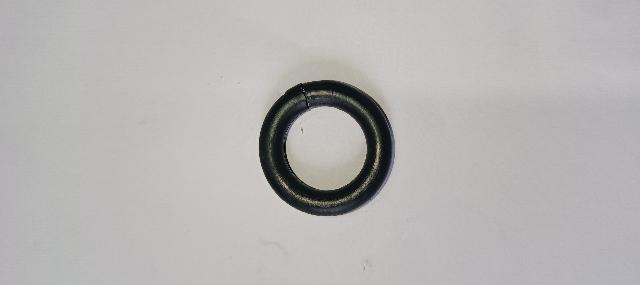crack: (301, 84, 310, 110)
scratch: (331, 87, 333, 108), (284, 92, 288, 96)
